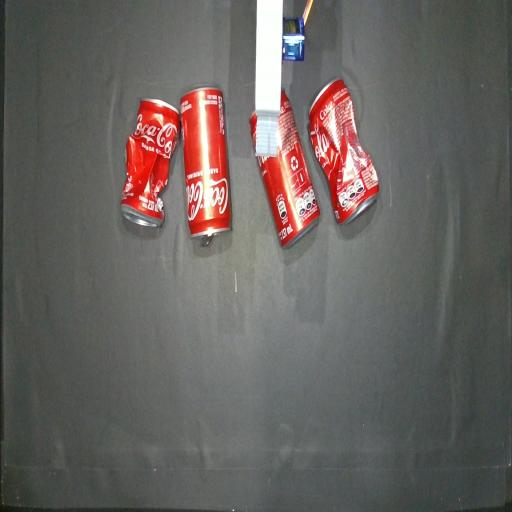lata: (256, 90, 320, 248), (181, 87, 231, 246), (250, 111, 259, 149)
lata_defectuoso: (309, 79, 378, 222), (121, 98, 180, 227)
